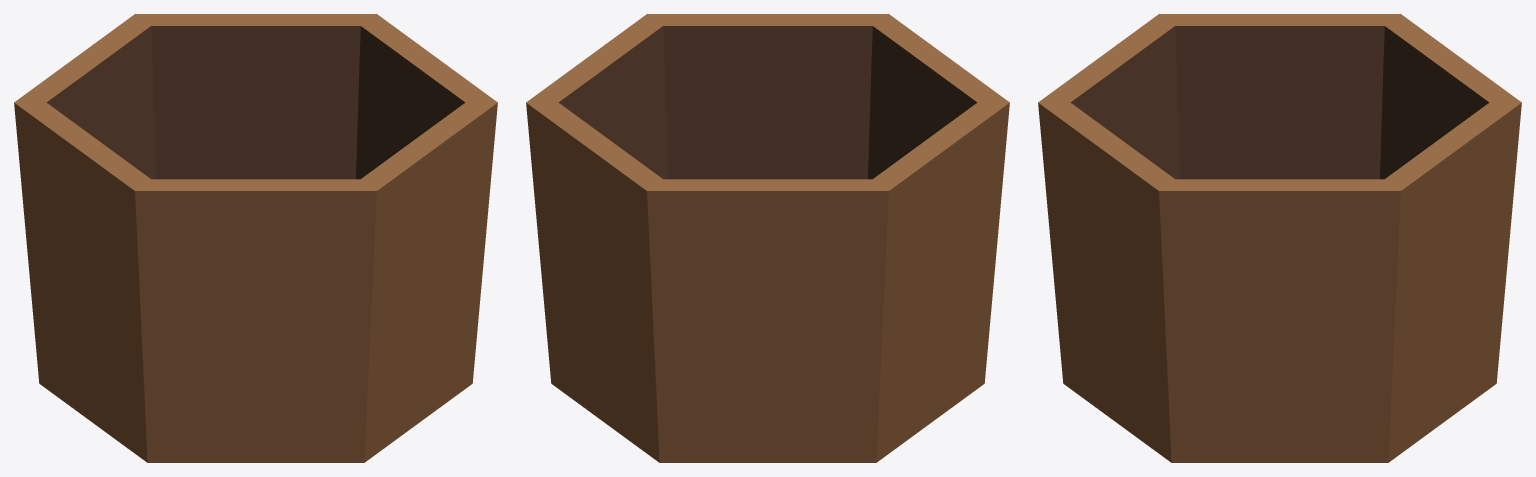
The model's file is TB_D_Prop_Bucket_B.FBX.
The picture shows the model from 3 angles, left to right: view 1: azimuth 30°, elevation 25°; view 2: azimuth 150°, elevation 25°; view 3: azimuth 270°, elevation 25°; orthographic projection.
Parts seen in each view (by area): view 1: TB_D_Prop_Bucket_B; view 2: TB_D_Prop_Bucket_B; view 3: TB_D_Prop_Bucket_B.
Part boxes in pixels (<box>): TB_D_Prop_Bucket_B: <box>14,14,497,462</box>; TB_D_Prop_Bucket_B: <box>526,14,1009,462</box>; TB_D_Prop_Bucket_B: <box>1038,14,1521,462</box>.
Size of the model in its own units: 0.4708 by 0.3485 by 0.5436.
